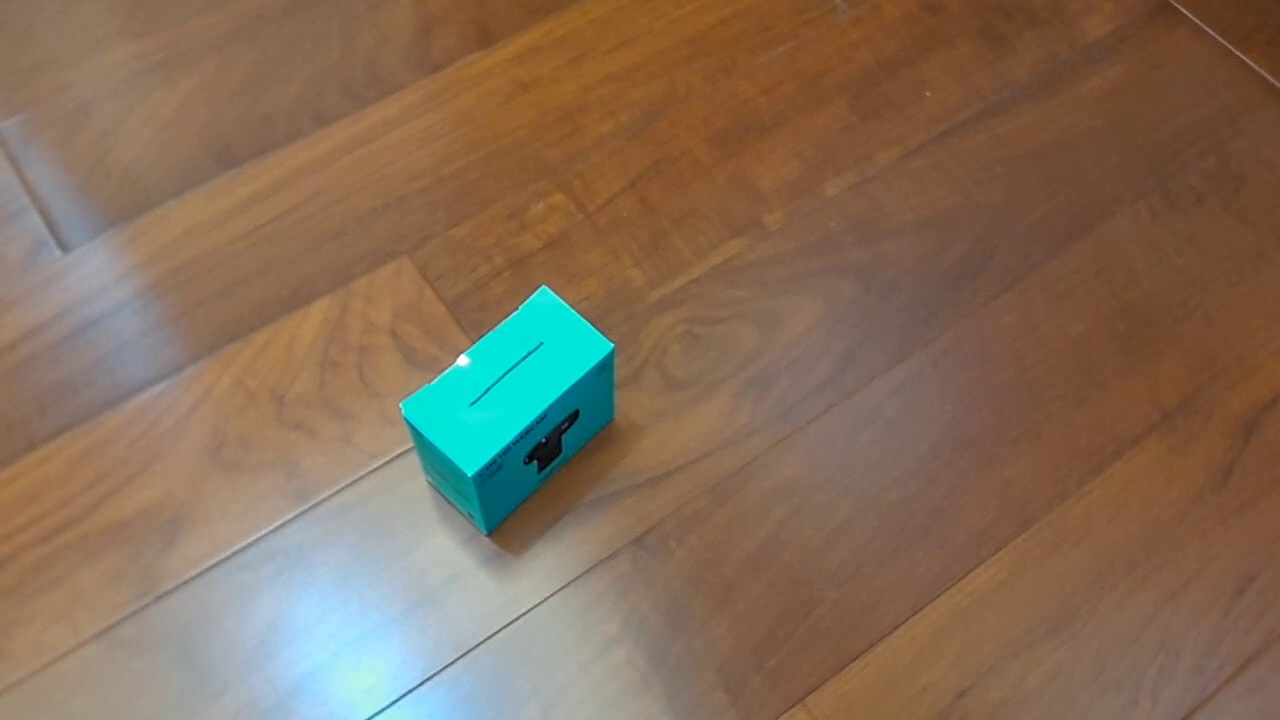webcam: (398, 283, 616, 538)
